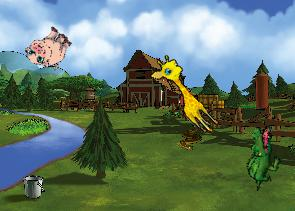crocodile: (235, 123, 288, 191)
giraffe: (145, 51, 229, 137)
pig: (21, 20, 76, 76)
